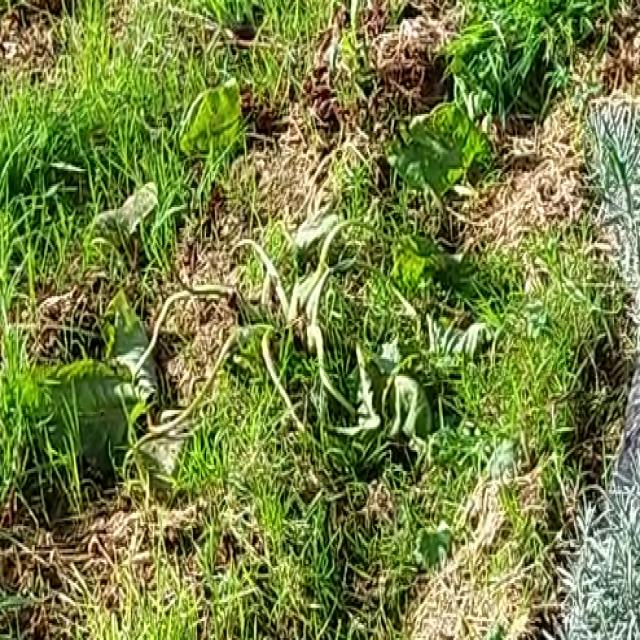organic waste: (0, 58, 514, 501)
